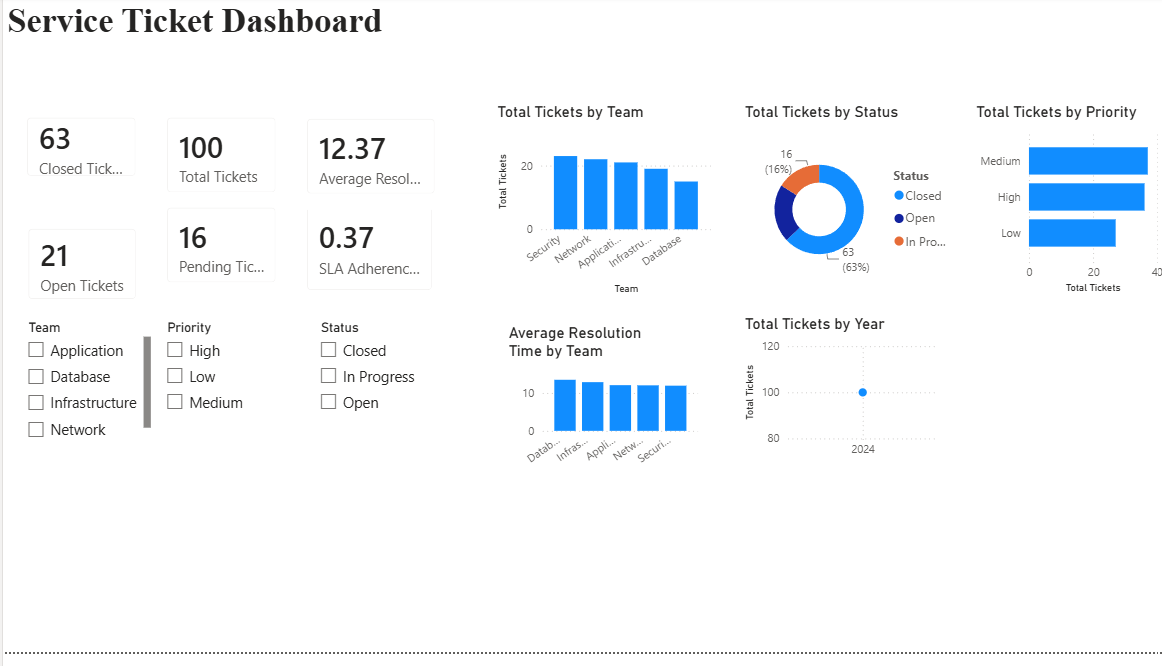

Layout of this report page (visuals, bound fields, positions):
{"tool":"powerbi","page":{"name":"Page 1","canvas":[1280,720],"ordinal":0},"visuals":[{"type":"cardVisual","fields":{"Data":["Tickets.Total Tickets"]},"box":[163.3,116.6,153.7,116.6],"z":0},{"type":"cardVisual","fields":{"Data":["Tickets.Closed Tickets"]},"box":[9.6,116.6,153.7,98.8],"z":1000},{"type":"cardVisual","fields":{"Data":["Tickets.Open Tickets"]},"box":[11,238.8,152.3,111.1],"z":2000},{"type":"cardVisual","fields":{"Data":["Tickets.SLA Adherence %"]},"box":[317,209.9,171.5,130.4],"z":3000},{"type":"cardVisual","fields":{"Data":["Tickets.Average Resolution Time"]},"box":[317,118,174.3,116.6],"z":4000},{"type":"cardVisual","fields":{"Data":["Tickets.Pending Tickets"]},"box":[163.3,215.4,153.7,116.6],"z":5000},{"type":"clusteredColumnChart","fields":{"Category":["Tickets.Team"],"Y":["Tickets.Total Tickets"]},"box":[537.9,116.6,244.3,215.4],"z":5001},{"type":"donutChart","fields":{"Category":["Tickets.Status"],"Y":["Tickets.Total Tickets"]},"box":[810,117,244,215],"z":5002},{"type":"clusteredBarChart","fields":{"Category":["Tickets.Priority"],"Y":["Tickets.Total Tickets"]},"box":[1064,117,216,215],"z":5003},{"type":"clusteredColumnChart","fields":{"Category":["Tickets.Team"],"Y":["Tickets.Average Resolution Time"]},"box":[550.3,359.5,218.2,166],"z":5004},{"type":"lineChart","fields":{"Y":["Tickets.Total Tickets"],"Category":["Tickets.Date.Variation.Date Hierarchy.Year","Tickets.Date.Variation.Date Hierarchy.Quarter","Tickets.Date.Variation.Date Hierarchy.Month","Tickets.Date.Variation.Date Hierarchy.Day"]},"box":[809.6,349.9,220.9,166],"z":5005},{"type":"textbox","box":[0,0,488.5,76.8],"z":5007},{"type":"slicer","fields":{"Values":["Tickets.Team"]},"box":[15.1,349.9,152.3,149.6],"z":5008},{"type":"slicer","fields":{"Values":["Tickets.Priority"]},"box":[167.4,349.9,153.7,149.6],"z":5009},{"type":"slicer","fields":{"Values":["Tickets.Status"]},"box":[336.2,349.9,171.5,149.6],"z":5010}]}

Visuals, with their boxes in screenshot pixels (x1, y1, x2, y2), scaled from the page's 1280x720 canvas onto the 1162x666 screenshot:
cardVisual - Tickets.Total Tickets: x1=148, y1=108, x2=288, y2=216
cardVisual - Tickets.Closed Tickets: x1=9, y1=108, x2=148, y2=199
cardVisual - Tickets.Open Tickets: x1=10, y1=221, x2=148, y2=324
cardVisual - Tickets.SLA Adherence %: x1=288, y1=194, x2=443, y2=315
cardVisual - Tickets.Average Resolution Time: x1=288, y1=109, x2=446, y2=217
cardVisual - Tickets.Pending Tickets: x1=148, y1=199, x2=288, y2=307
clusteredColumnChart - Tickets.Team x Tickets.Total Tickets: x1=488, y1=108, x2=710, y2=307
donutChart - Tickets.Status x Tickets.Total Tickets: x1=735, y1=108, x2=957, y2=307
clusteredBarChart - Tickets.Priority x Tickets.Total Tickets: x1=966, y1=108, x2=1161, y2=307
clusteredColumnChart - Tickets.Team x Tickets.Average Resolution Time: x1=500, y1=333, x2=698, y2=486
lineChart - Tickets.Total Tickets x Tickets.Date.Variation.Date Hierarchy.Year: x1=735, y1=324, x2=936, y2=477
textbox: x1=0, y1=0, x2=443, y2=71
slicer - Tickets.Team: x1=14, y1=324, x2=152, y2=462
slicer - Tickets.Priority: x1=152, y1=324, x2=291, y2=462
slicer - Tickets.Status: x1=305, y1=324, x2=461, y2=462
